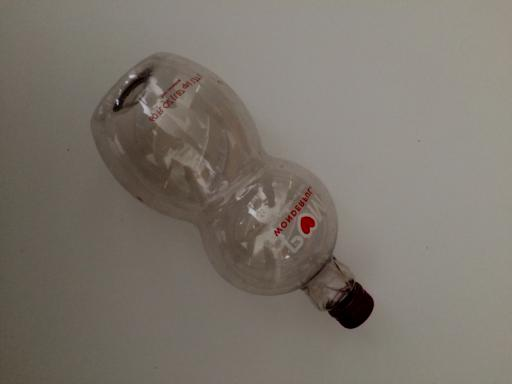bottle: (88, 50, 384, 342)
